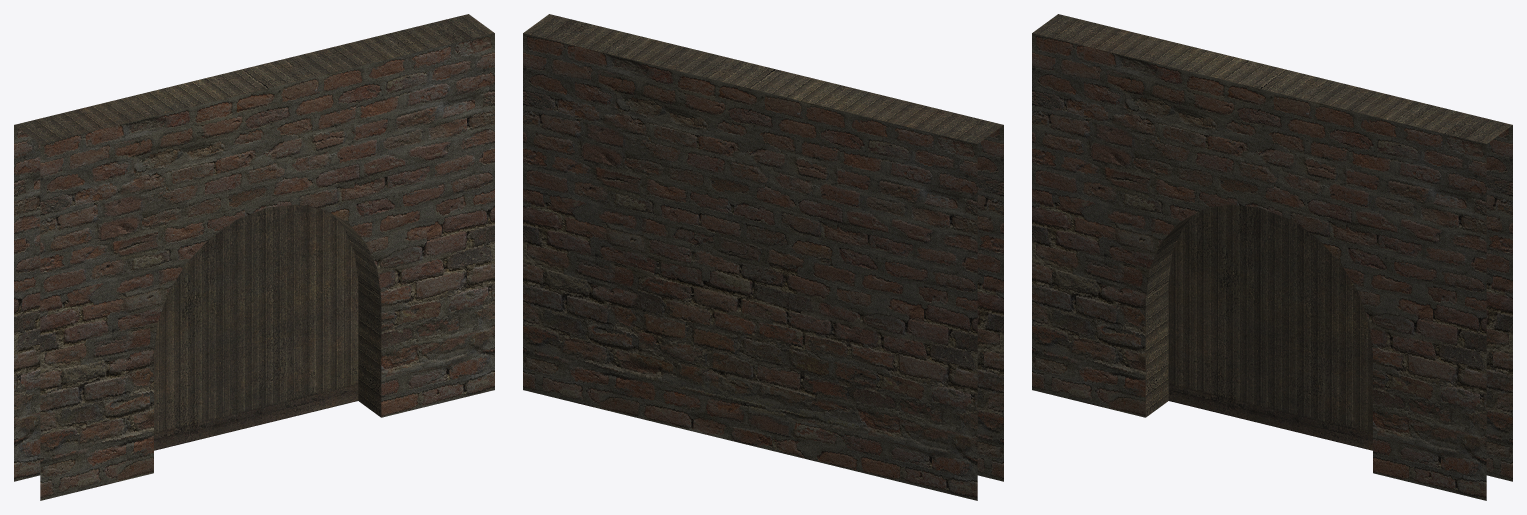
File: wall_hr_15.glb
The picture shows the model from 3 angles, left to right: view 1: azimuth 30°, elevation 25°; view 2: azimuth 150°, elevation 25°; view 3: azimuth 330°, elevation 25°; orthographic projection.
Visible parts, largest first — view 1: wall_hr_15; view 2: wall_hr_15; view 3: wall_hr_15.
Boxes of the visible parts, <box> form: wall_hr_15: <box>14,14,494,500</box>; wall_hr_15: <box>523,14,1003,500</box>; wall_hr_15: <box>1032,14,1512,500</box>.
Size of the model in its own units: 4 by 3 by 0.4.
2 materials, 2 textured.
